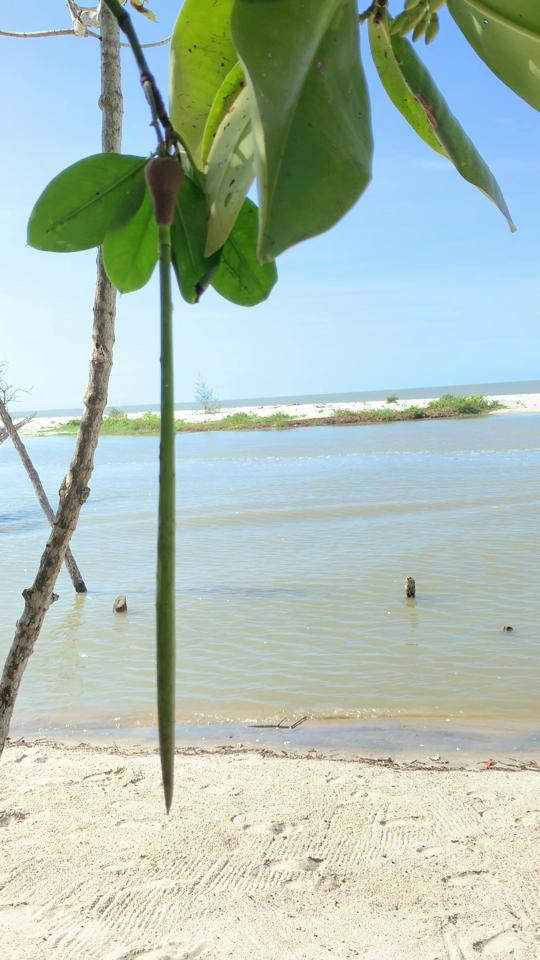setengah matang: (134, 133, 204, 830)
